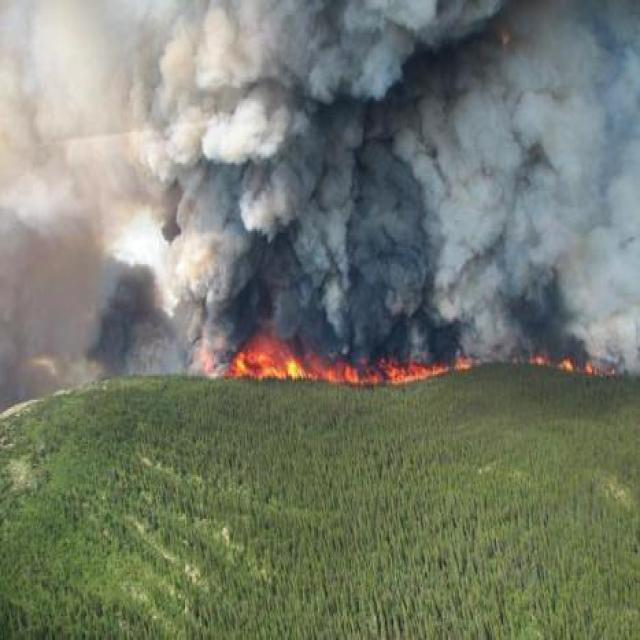Fire: (231, 333, 458, 386)
Smoke: (0, 2, 640, 412)
